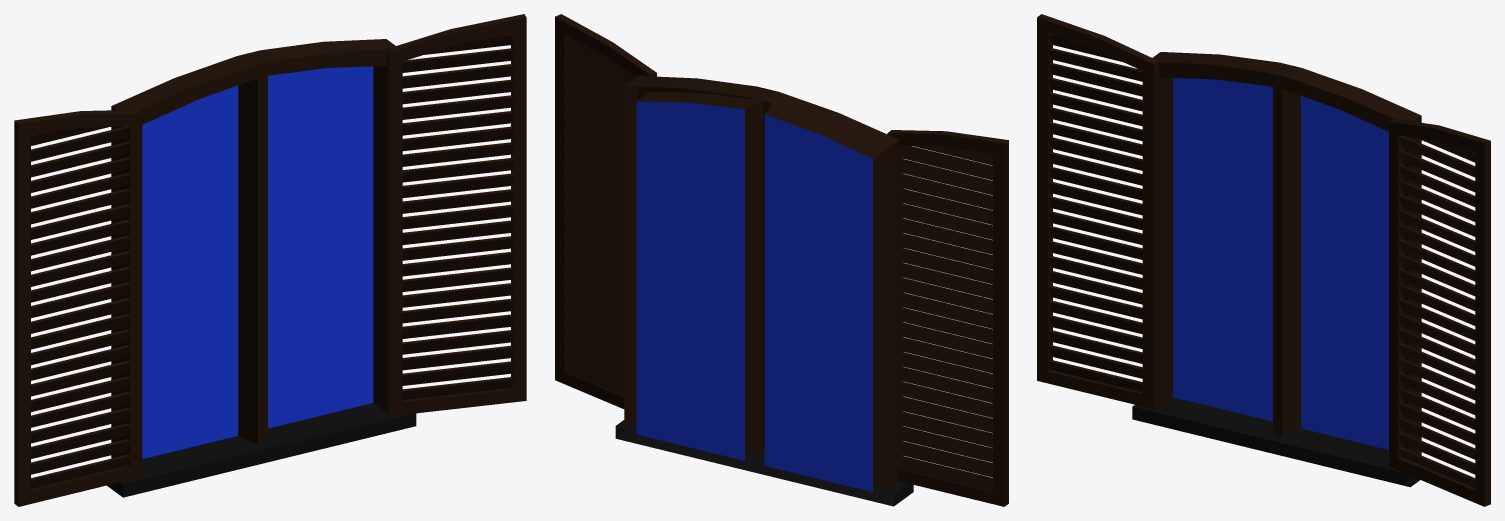
Rendered from Fnestra1.FBX.
3 views of the same model, side by side, from view 1: azimuth 30°, elevation 25°; view 2: azimuth 150°, elevation 25°; view 3: azimuth 330°, elevation 25° (orthographic). The views are drawn at different scales.
Parts seen in each view (by area): view 1: Finestra1; view 2: Finestra1; view 3: Finestra1.
Boxes of the visible parts, <box> form: Finestra1: <box>14,14,526,506</box>; Finestra1: <box>555,14,1008,506</box>; Finestra1: <box>1037,14,1490,506</box>.
Bounding box in the file's own units: 116 × 89.93 × 15.21.
